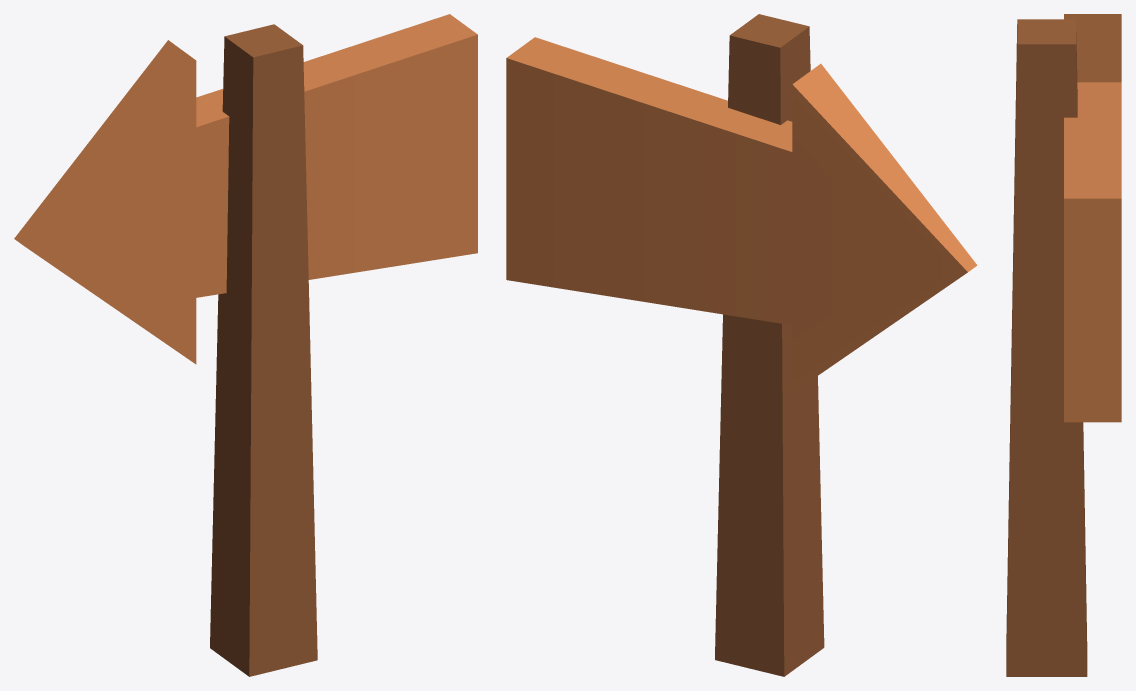
The model's file is arrow.glb.
3 views of the same model, side by side, from view 1: azimuth 30°, elevation 25°; view 2: azimuth 150°, elevation 25°; view 3: azimuth 270°, elevation 25° (orthographic). The views are drawn at different scales.
Visible parts, largest first — view 1: arrow; view 2: arrow; view 3: arrow.
Boxes of the visible parts, x1=… form: arrow: x1=14, y1=14, x2=477, y2=676; arrow: x1=506, y1=14, x2=977, y2=676; arrow: x1=1006, y1=14, x2=1121, y2=676.
Bounding box in the file's own units: 0.4557 × 0.6 × 0.0998.
